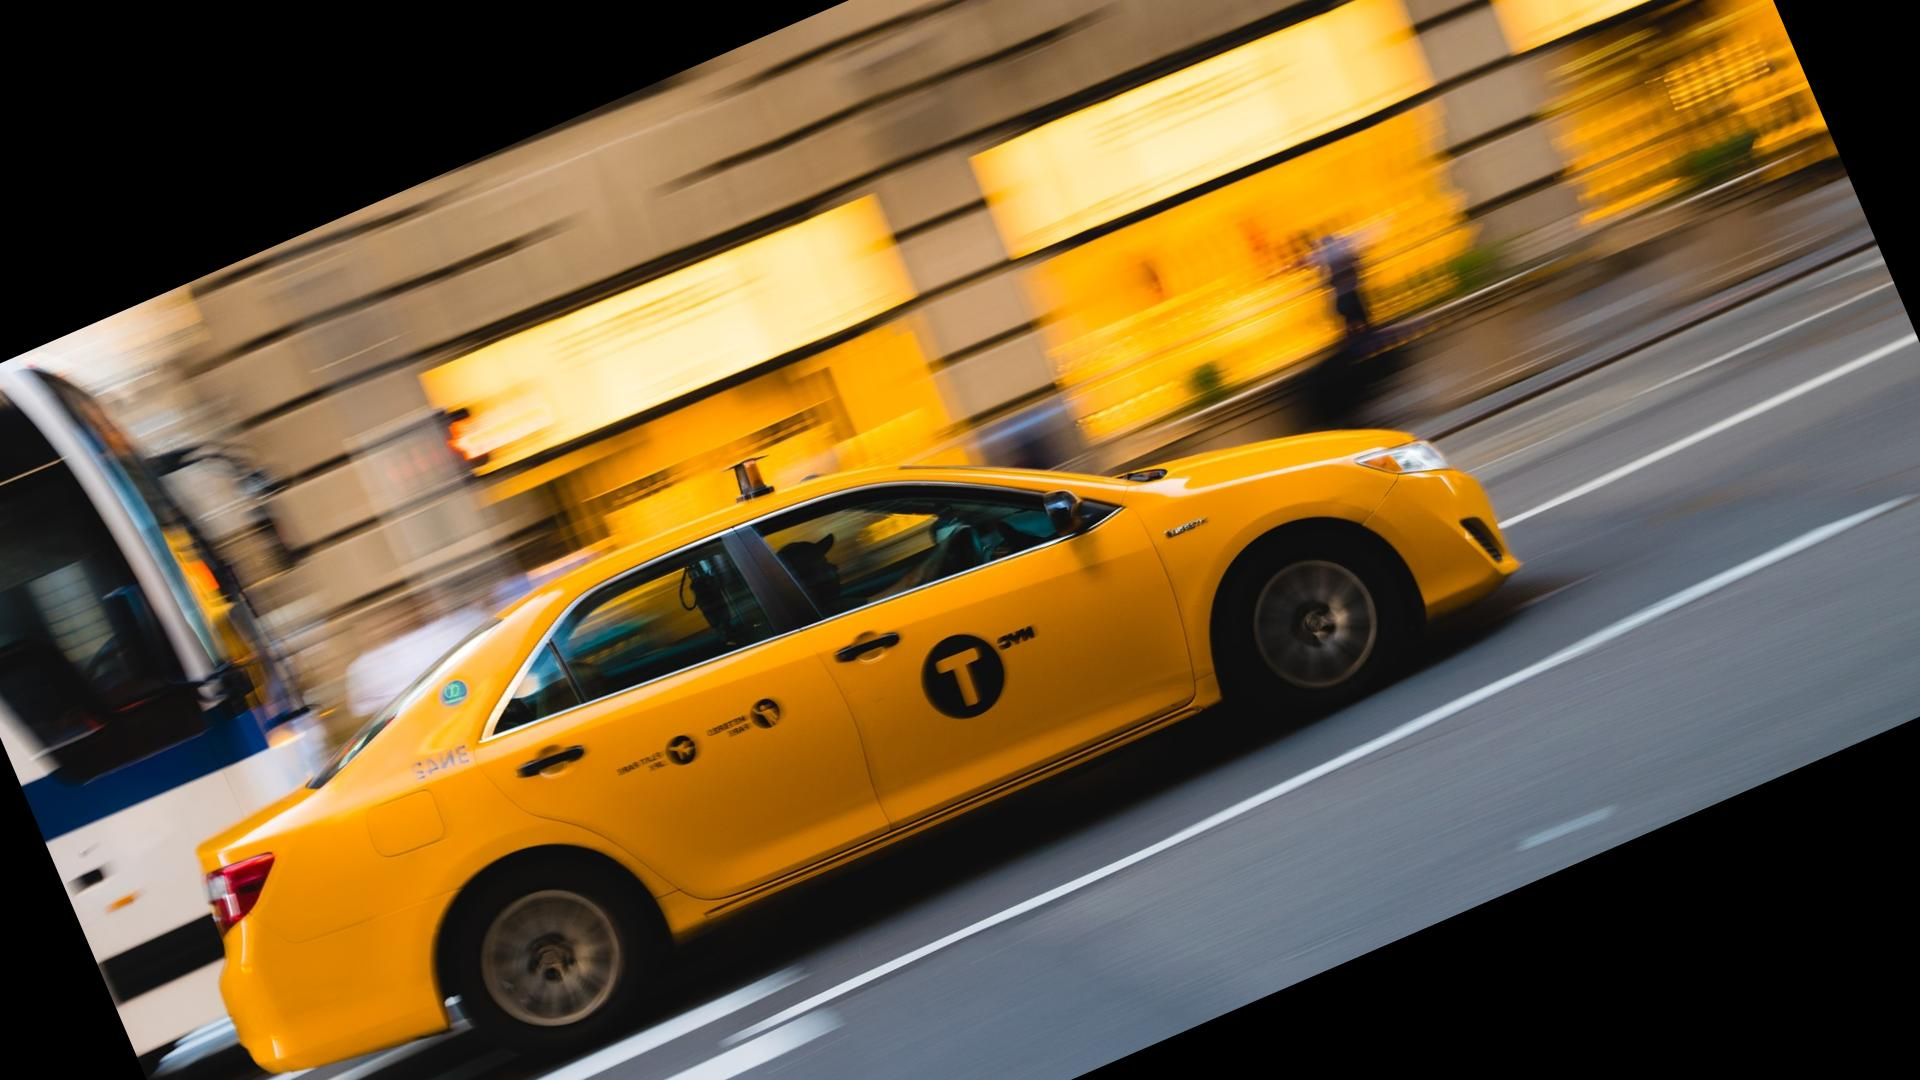taxi: (211, 376, 1553, 1073)
